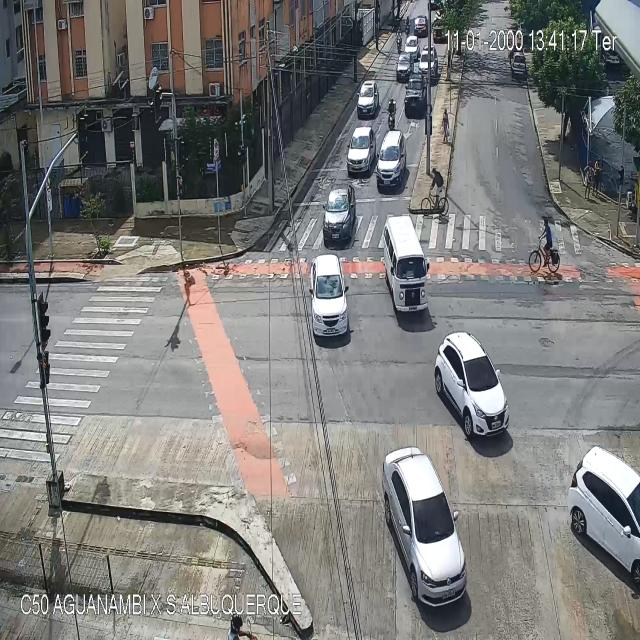Car: (382, 448, 468, 605), (570, 447, 640, 584), (433, 329, 512, 441), (382, 216, 430, 316), (307, 252, 350, 342), (321, 185, 354, 247), (378, 130, 408, 189), (347, 127, 376, 179), (404, 70, 428, 115), (429, 4, 453, 44), (357, 80, 380, 115), (421, 46, 438, 78), (396, 50, 410, 80), (404, 36, 420, 61), (413, 14, 427, 36), (512, 53, 524, 75)
Motorcycle: (388, 97, 398, 132), (405, 13, 412, 40), (397, 25, 402, 53)
